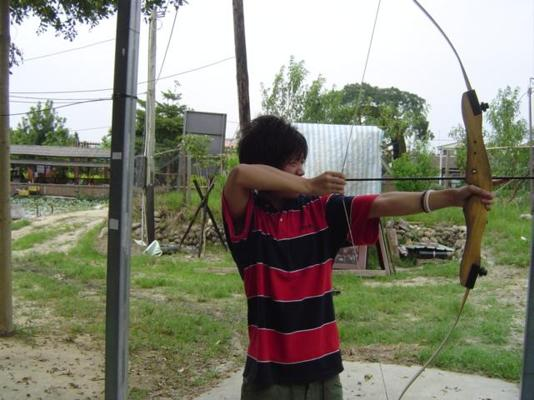person: (223, 114, 495, 400)
